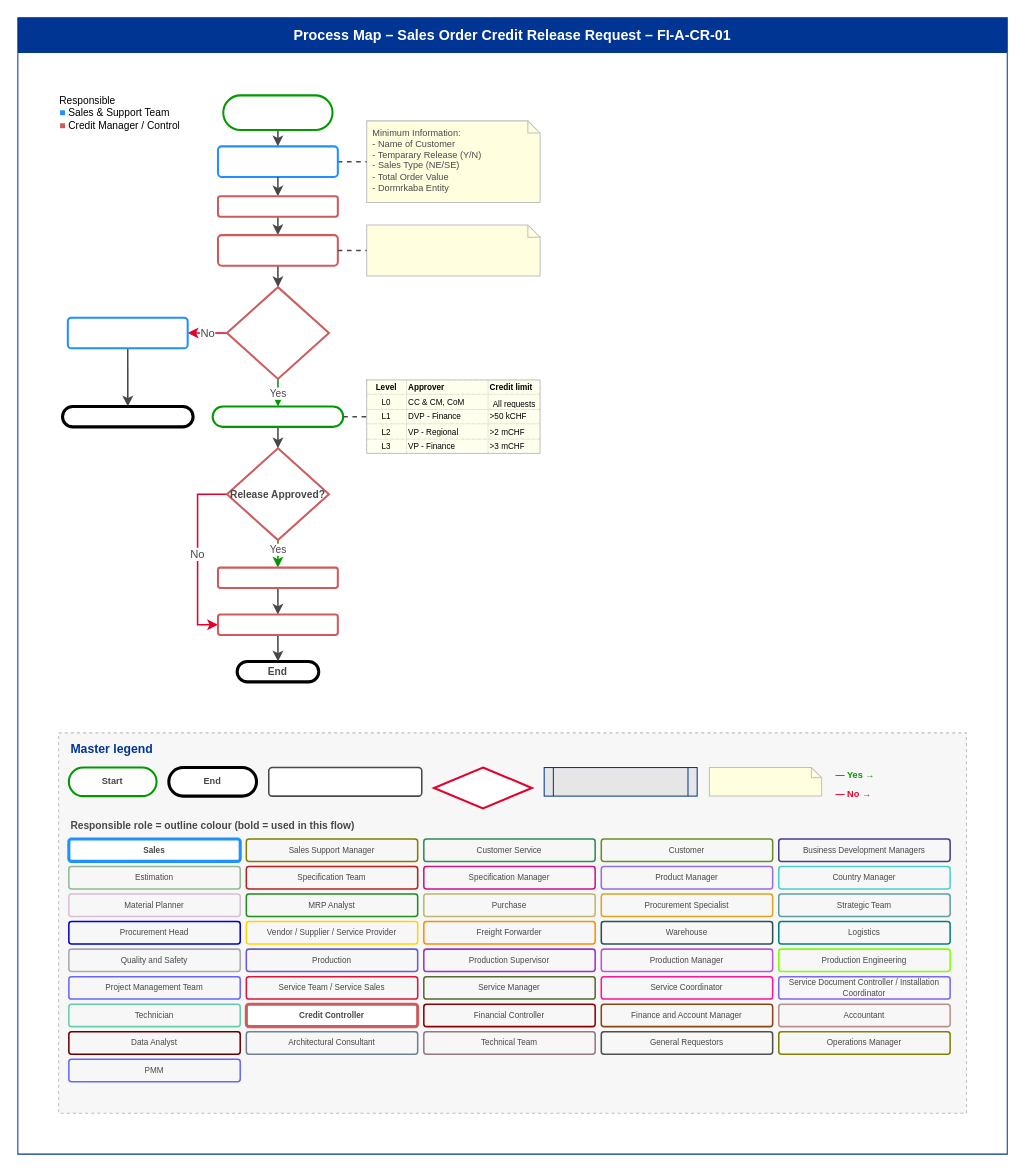
This 1025x1172 diagram has some shape labels left out. Here are the shapes that lost their labels. From the top down, the centre of each, then its label:
[277,112]: Start Process
[277,161]: SO Credit Release Request Submitted
[277,206]: Review request
[277,250]: Identify the reason for Block
[453,250]: Block Type: - Credit Limit - OD Outstanding Payment - Risk Criteria
[127,332]: Request for Custiomer Update
[277,332]: Block due to Risk?
[127,416]: Customer Update
[277,416]: Risk Approval
[277,577]: SO Released
[277,624]: Update Requestor
[345,781]: Activity (outline = role)
[482,787]: Decision
[620,781]: Linked process (Ref ID)
[765,781]: Note / checklist
